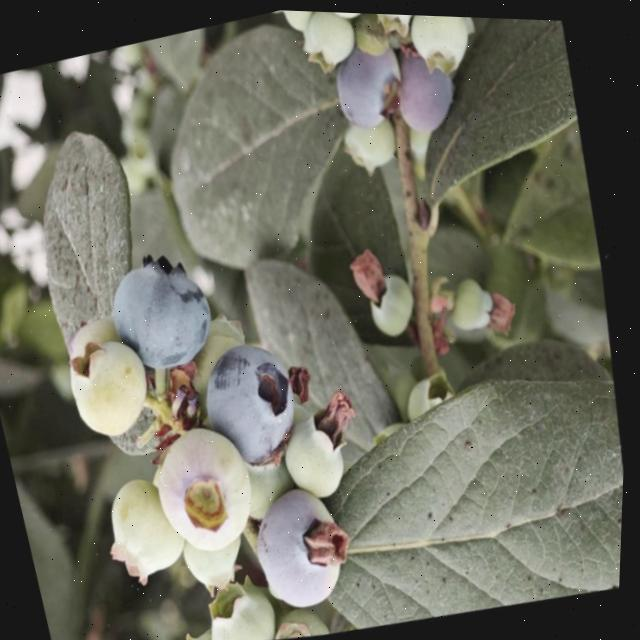RipeBlueBerry: (96, 236, 240, 391), (190, 325, 329, 483)
Semi-RipeBlueBerry: (245, 471, 378, 625), (320, 27, 419, 139), (387, 42, 471, 141)
UnripeBlueBerry: (145, 410, 288, 573), (98, 464, 217, 601), (62, 327, 175, 456), (275, 397, 372, 512), (208, 573, 301, 640), (399, 12, 483, 82), (364, 261, 434, 344), (290, 8, 365, 80), (447, 262, 518, 338)
